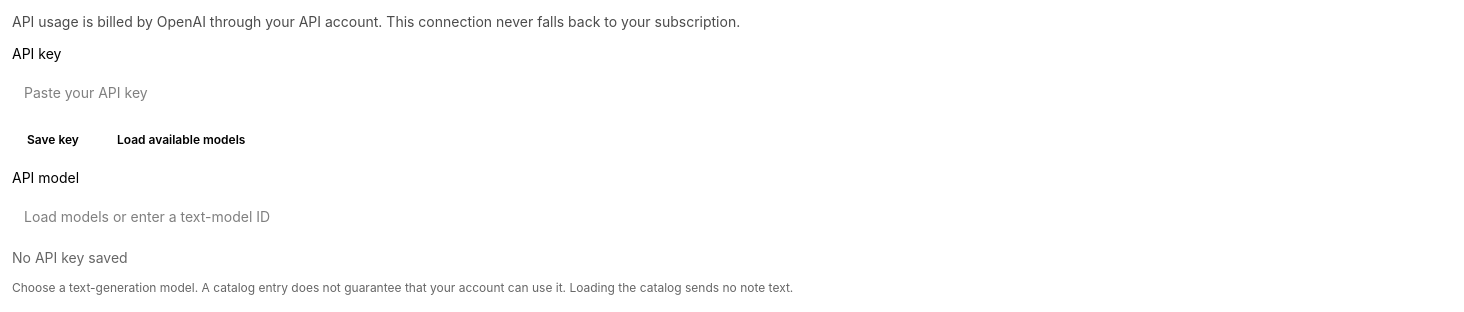
Test: saves keys only through the native credential command, clears input and loads provider models
Type "fake-test-api-key" into the password field labelled "API key" at (732, 92), box [12, 72, 1452, 112]
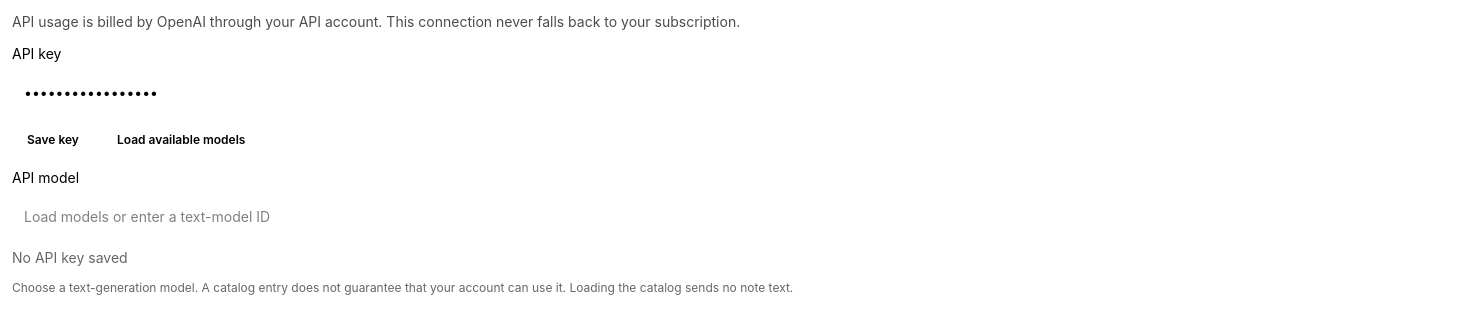
Click the button "Save key" at (53, 140), box [12, 124, 94, 156]
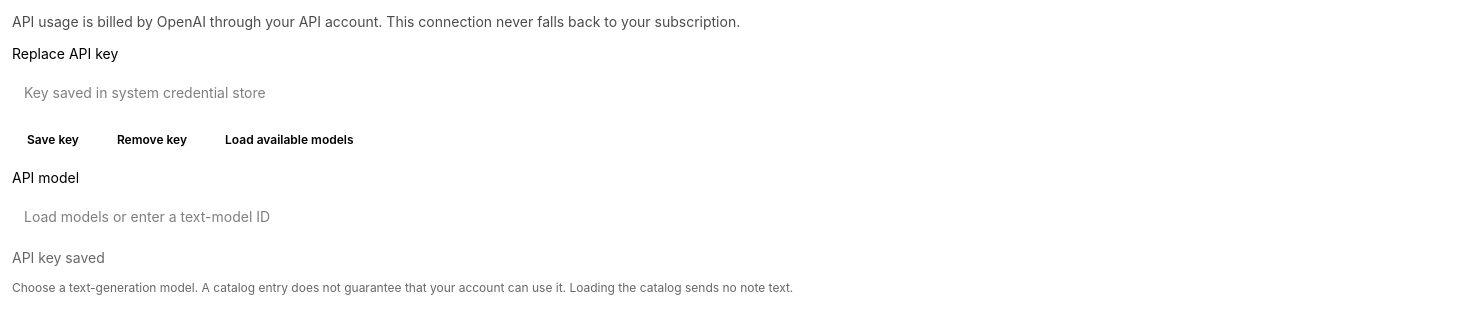
Expected: the text "API key saved" is shown, [12, 249, 105, 266]
Now the password field labelled "API key" is empty, box [12, 72, 1452, 112]
Click the button "Load available models" at (289, 140), box [210, 124, 368, 156]
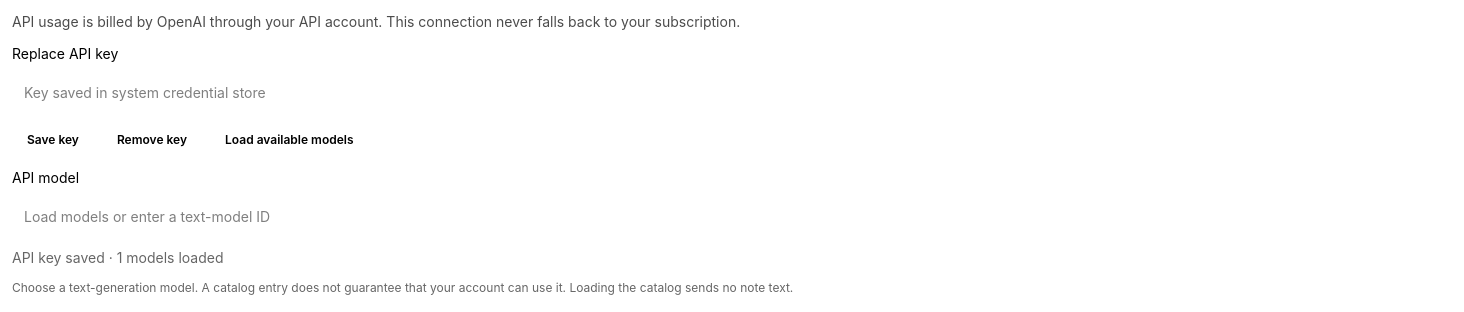
Type "text-model" into the field labelled "API model" at (732, 216), box [12, 196, 1452, 236]
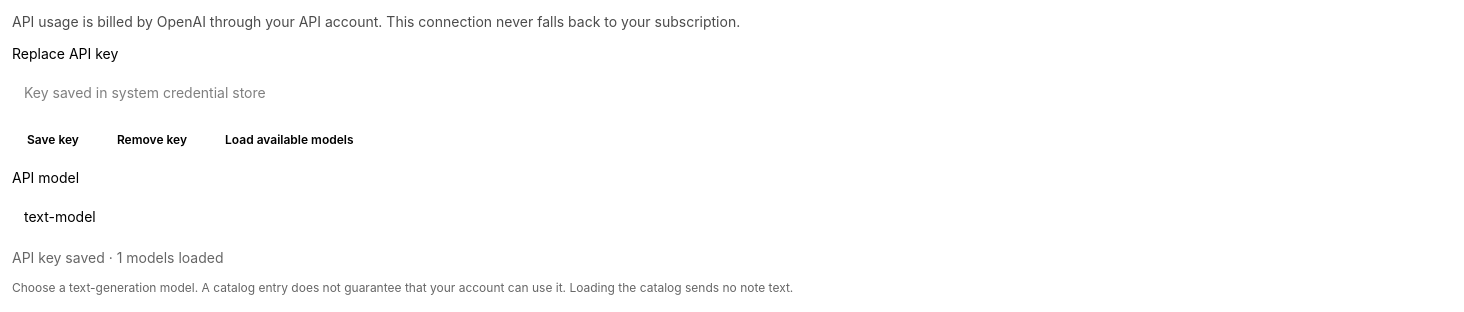
Click the button "Remove key" at (152, 140), box [102, 124, 202, 156]
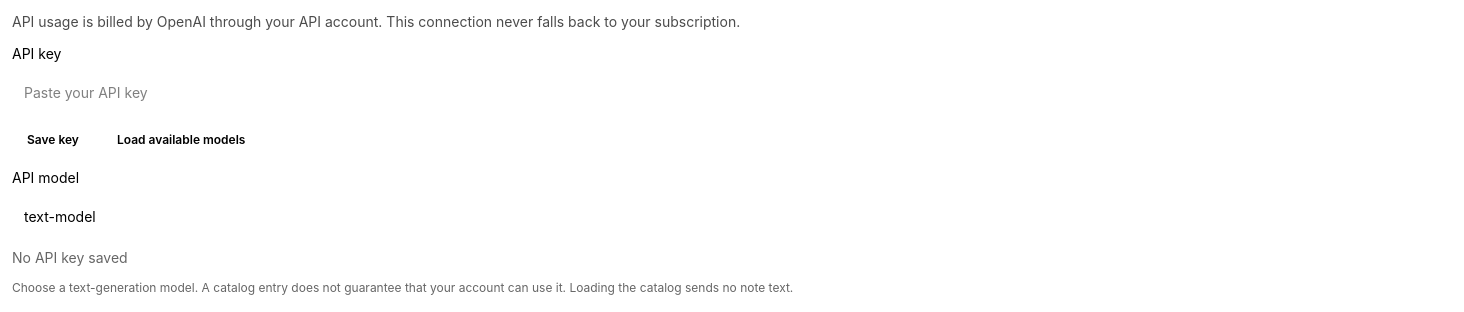
Now the text "No API key saved" is shown, box [12, 249, 128, 266]
